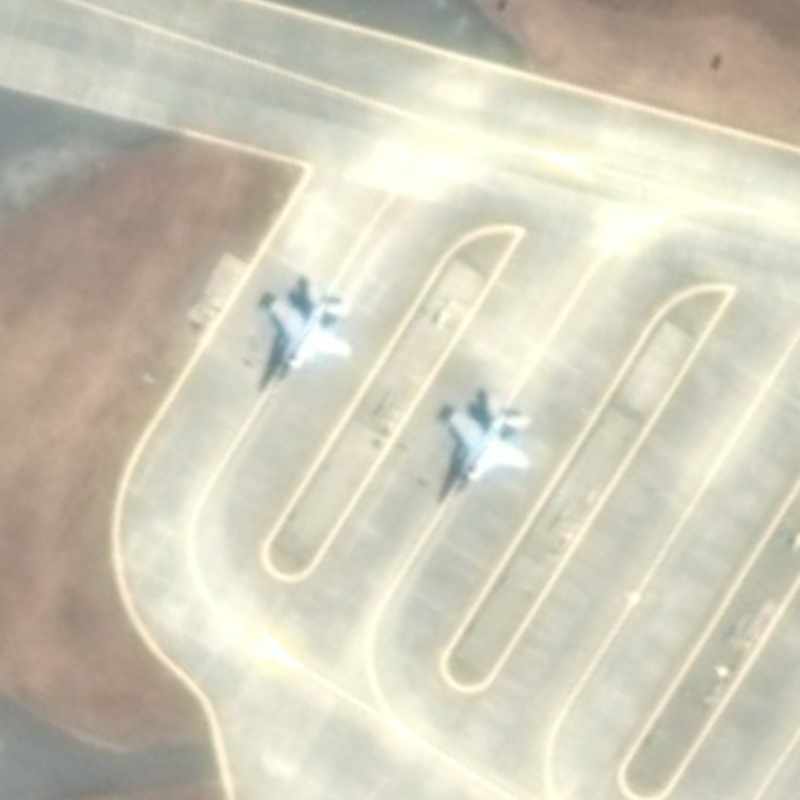A16: (247, 268, 356, 411), (434, 383, 538, 509)
